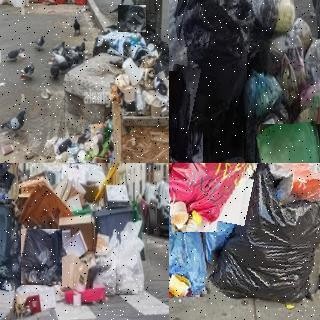Garbage: (210, 163, 320, 304), (169, 0, 252, 136), (171, 163, 244, 232), (169, 170, 208, 298), (169, 71, 203, 163), (257, 122, 320, 163), (21, 229, 62, 285), (244, 73, 284, 118), (248, 0, 292, 33), (118, 5, 146, 32), (0, 164, 18, 200), (0, 253, 18, 289), (156, 42, 169, 81)
